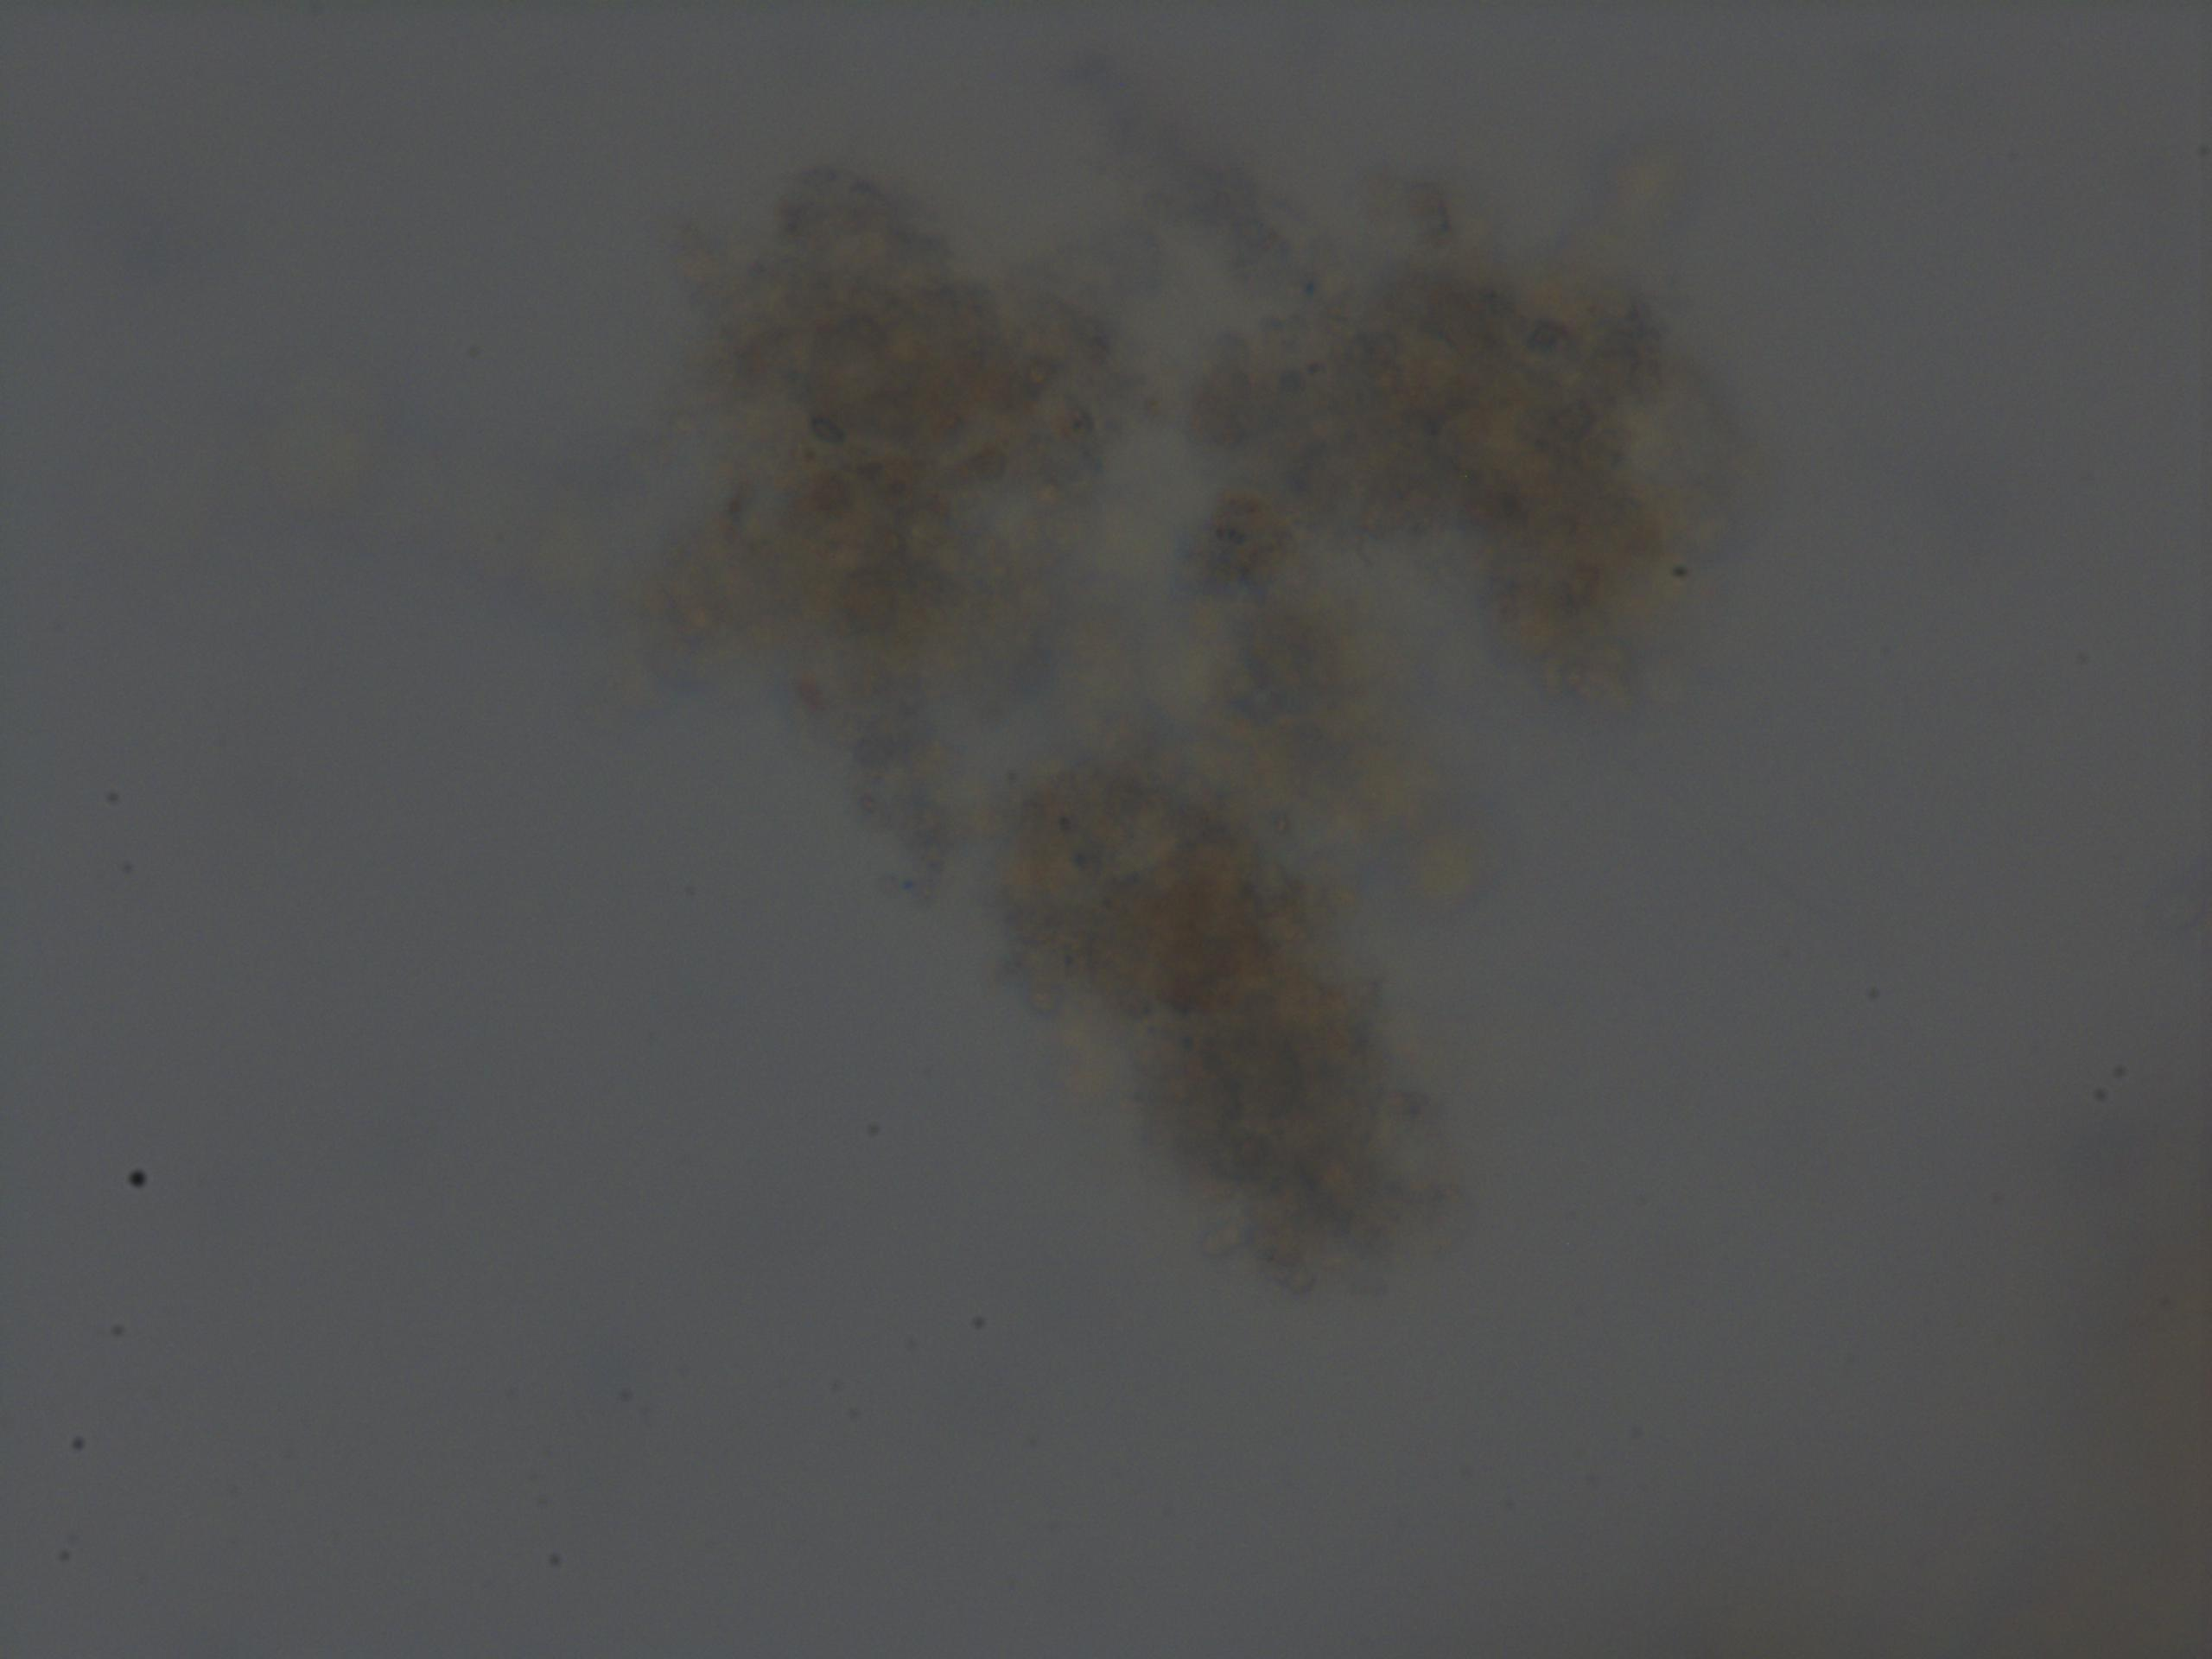open_floc: (613, 143, 1780, 1302)
